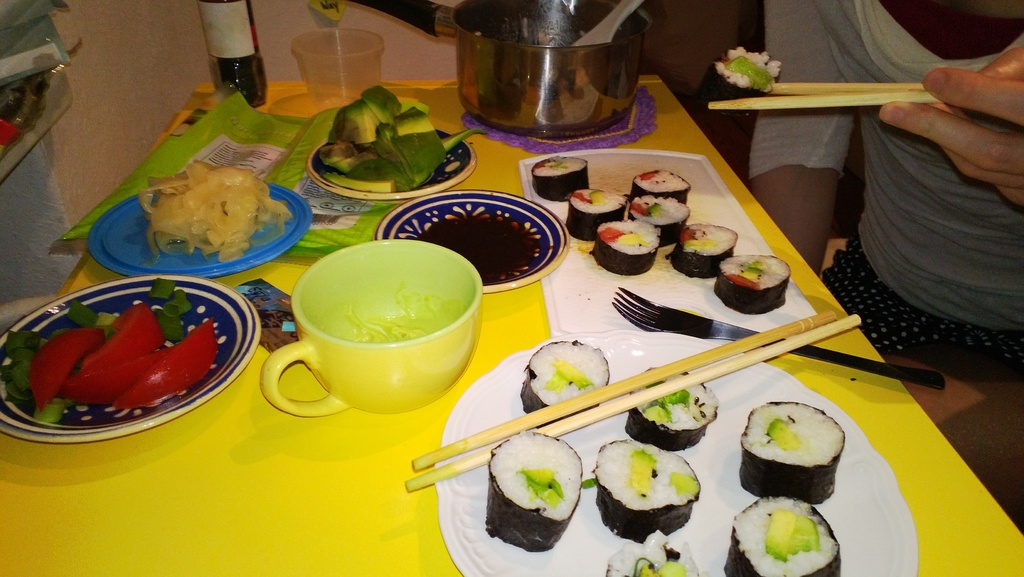sushi: (530, 155, 788, 316), (591, 436, 708, 551), (484, 432, 581, 553), (739, 404, 847, 500), (723, 499, 844, 576), (621, 371, 716, 453), (524, 342, 609, 425)
